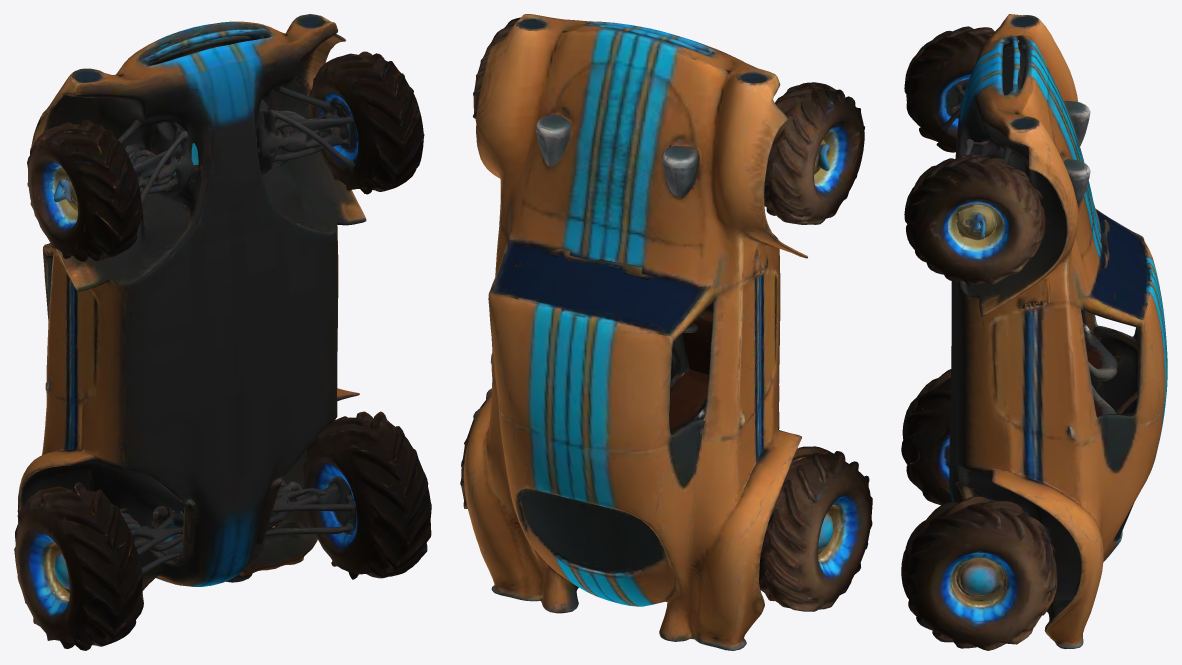
The model's file is pchelka.glb.
The picture shows the model from 3 angles, left to right: view 1: azimuth 30°, elevation 25°; view 2: azimuth 150°, elevation 25°; view 3: azimuth 270°, elevation 25°; orthographic projection. The views are drawn at different scales.
Parts seen in each view (by area): view 1: body; view 2: body; view 3: body.
Boxes of the visible parts, x1,y1,x2,y2 form: body: (14,14,431,650); body: (460,14,872,650); body: (901,14,1167,650).
Size of the model in its own units: 0.7581 by 1.18 by 0.5273.
1 material, 1 textured.
